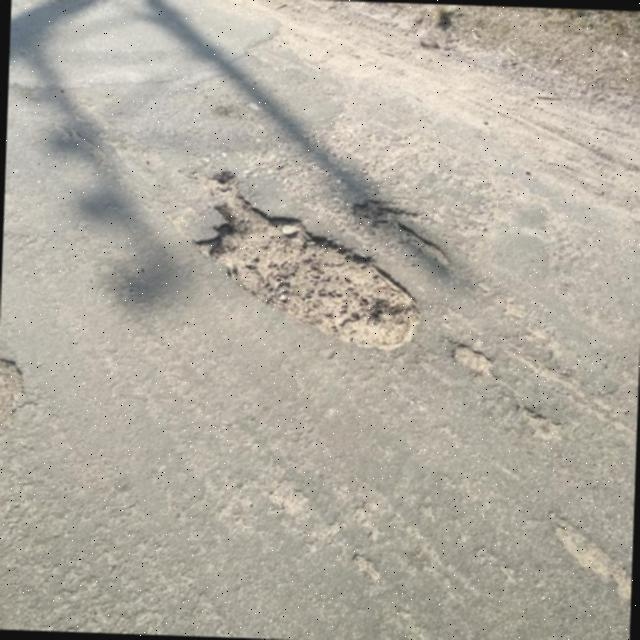Pothole: (198, 174, 419, 354)
